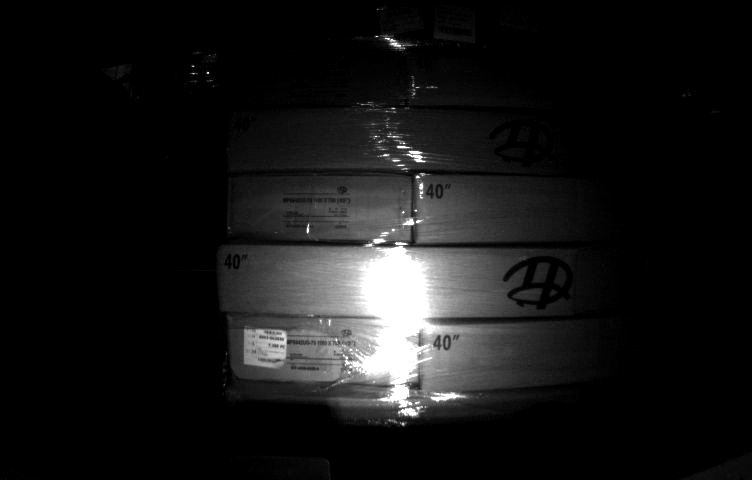True Barcode: (244, 324, 287, 370)
